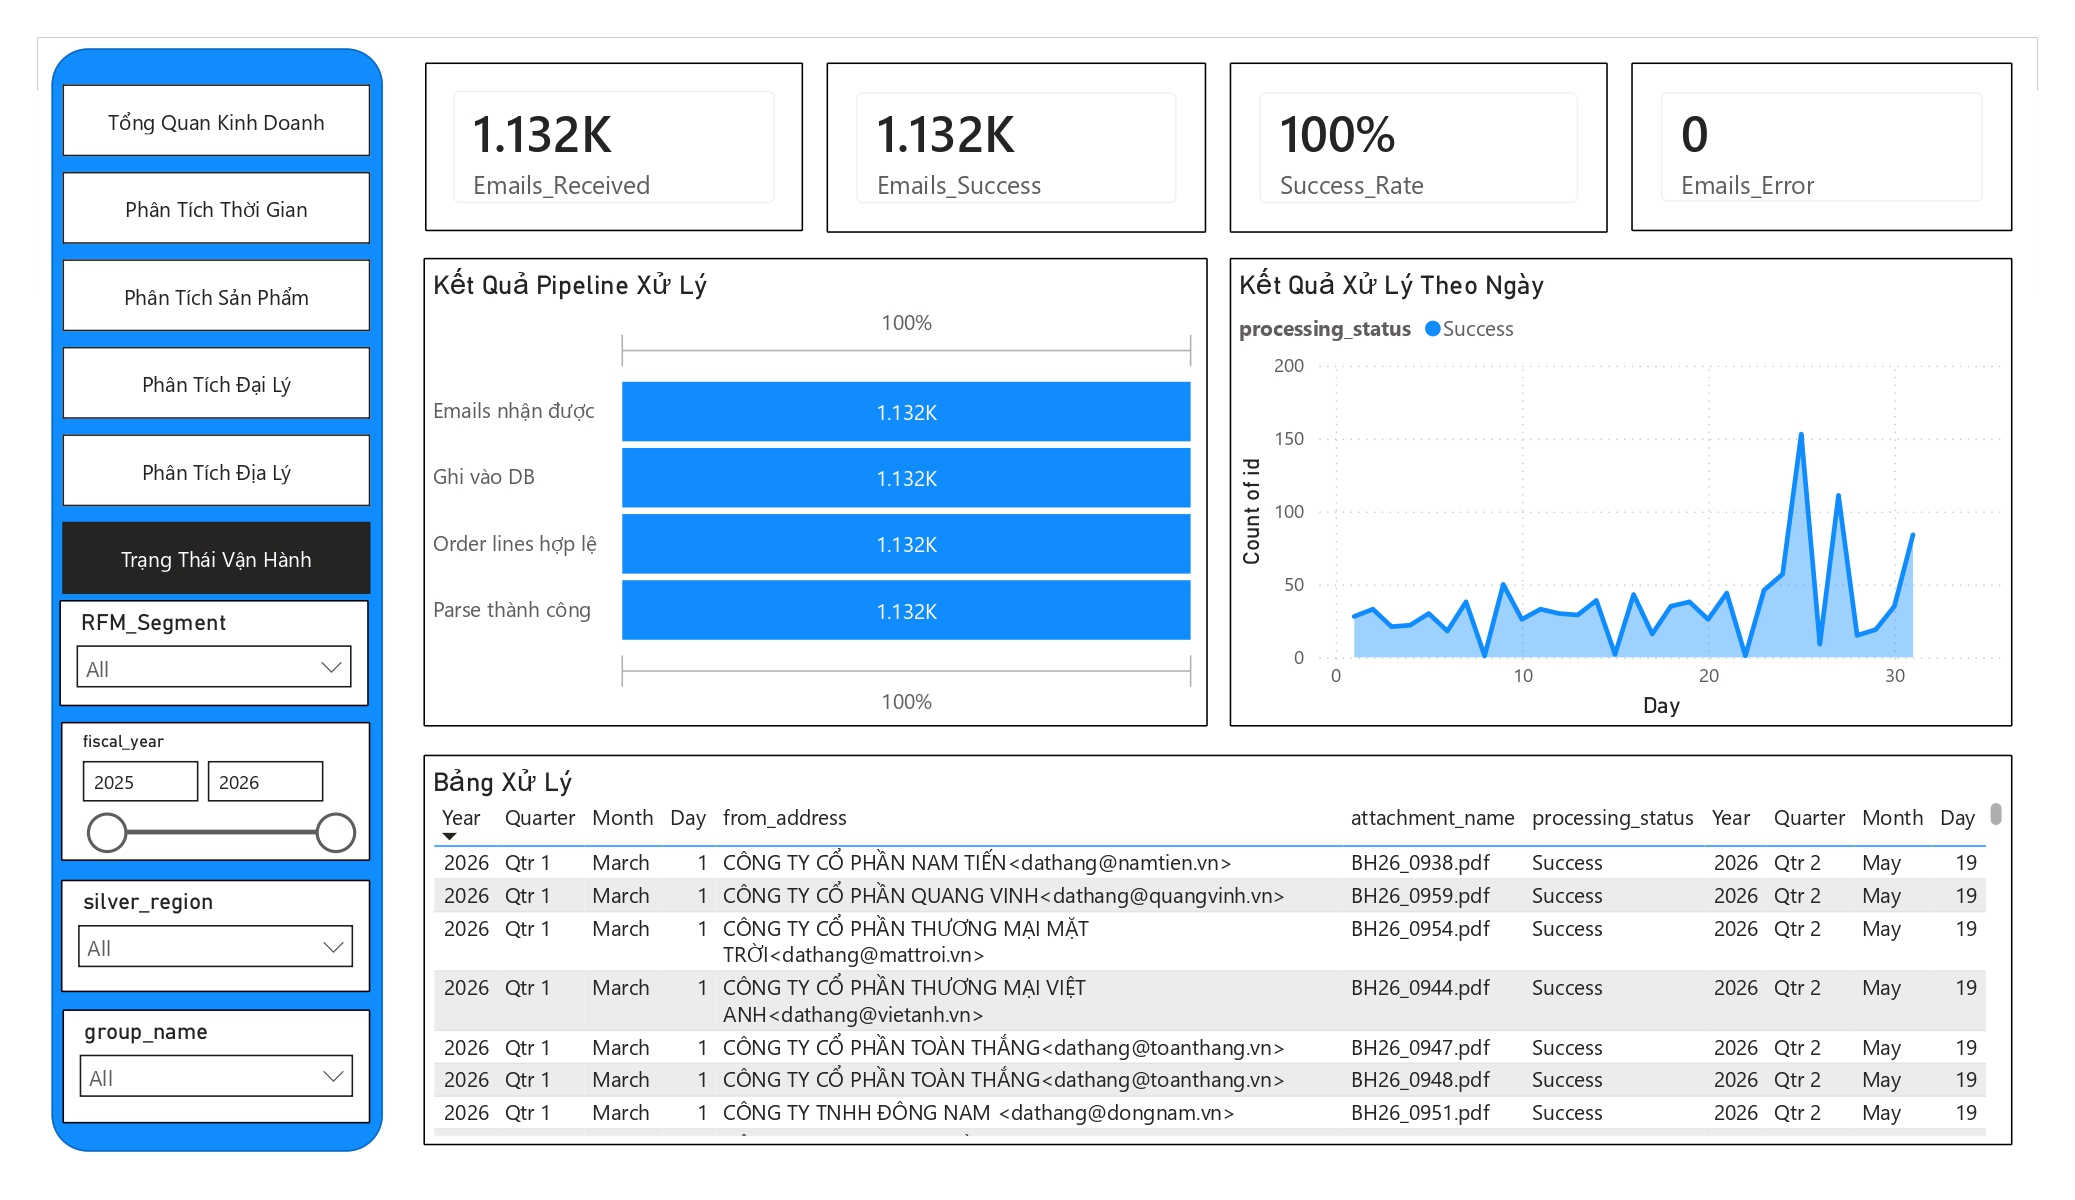

This screenshot's page, from the dashboard's own definition file:
{"tool":"powerbi","page":{"name":"Trạng Thái Vận Hành","canvas":[1280,720],"ordinal":5},"visuals":[{"type":"cardVisual","fields":{"Data":["email_log.Emails_Received"]},"box":[247.5,16.2,242.5,107.5],"z":0},{"type":"cardVisual","fields":{"Data":["email_log.Emails_Success"]},"box":[505,16.2,242.5,108.8],"z":1000},{"type":"cardVisual","fields":{"Data":["email_log.Success_Rate"]},"box":[762.5,16.2,242.5,108.8],"z":2000},{"type":"cardVisual","fields":{"Data":["email_log.Emails_Error"]},"box":[1020,16,244,108],"z":3000},{"type":"areaChart","title":"Kết Quả Xử Lý Theo Ngày","fields":{"Category":["email_log.received_at.Variation.Date Hierarchy.Day"],"Y":["CountNonNull(email_log.id)"],"Series":["email_log.processing_status"]},"box":[762.9,141.4,501.4,300],"z":4000},{"type":"tableEx","title":"Bảng Xử Lý","fields":{"Values":["email_log.received_at.Variation.Date Hierarchy.Year","email_log.received_at.Variation.Date Hierarchy.Quarter","email_log.received_at.Variation.Date Hierarchy.Month","email_log.received_at.Variation.Date Hierarchy.Day","email_log.from_address","email_log.attachment_name","email_log.processing_status","email_log.created_at.Variation.Date Hierarchy.Year","email_log.created_at.Variation.Date Hierarchy.Quarter","email_log.created_at.Variation.Date Hierarchy.Month","email_log.created_at.Variation.Date Hierarchy.Day"]},"box":[247.1,458.6,1017.1,250],"z":5000},{"type":"funnel","title":"Kết Quả Pipeline Xử Lý","fields":{"Category":["funnel_data.Label"],"Y":["Sum(funnel_data.Count)"]},"box":[247.1,141.4,501.4,300],"z":6000},{"type":"shape","box":[8.6,7.1,212.9,705.7],"z":7000},{"type":"slicer","fields":{"Values":["gold_fact_sales.silver_region"]},"box":[15.4,538.6,197.1,72.9],"z":8000},{"type":"slicer","fields":{"Values":["gold_fact_sales.group_name"]},"box":[15.8,622,197.1,72.9],"z":9000},{"type":"slicer","fields":{"Values":["gold_fact_sales.fiscal_year"]},"box":[15,438,198,89],"z":10000},{"type":"slicer","fields":{"Values":["RFM_Table.RFM_Segment"]},"box":[14,360,198,68],"z":11000},{"type":"pageNavigator","box":[15.8,30,196.7,330],"z":12000}]}

Visuals, with their boxes on the page's 1280x720 design canvas (x1, y1, x2, y2). These are canvas units, not pixel positions in the 2075x1200 screenshot, which may show the page scaled, cropped or inside an application window:
cardVisual - email_log.Emails_Received: crop(248, 16, 490, 124)
cardVisual - email_log.Emails_Success: crop(505, 16, 748, 125)
cardVisual - email_log.Success_Rate: crop(762, 16, 1005, 125)
cardVisual - email_log.Emails_Error: crop(1020, 16, 1264, 124)
"Kết Quả Xử Lý Theo Ngày" areaChart: crop(763, 141, 1264, 441)
"Bảng Xử Lý" tableEx: crop(247, 459, 1264, 709)
"Kết Quả Pipeline Xử Lý" funnel: crop(247, 141, 748, 441)
shape: crop(9, 7, 222, 713)
slicer - gold_fact_sales.silver_region: crop(15, 539, 212, 612)
slicer - gold_fact_sales.group_name: crop(16, 622, 213, 695)
slicer - gold_fact_sales.fiscal_year: crop(15, 438, 213, 527)
slicer - RFM_Table.RFM_Segment: crop(14, 360, 212, 428)
pageNavigator: crop(16, 30, 212, 360)
